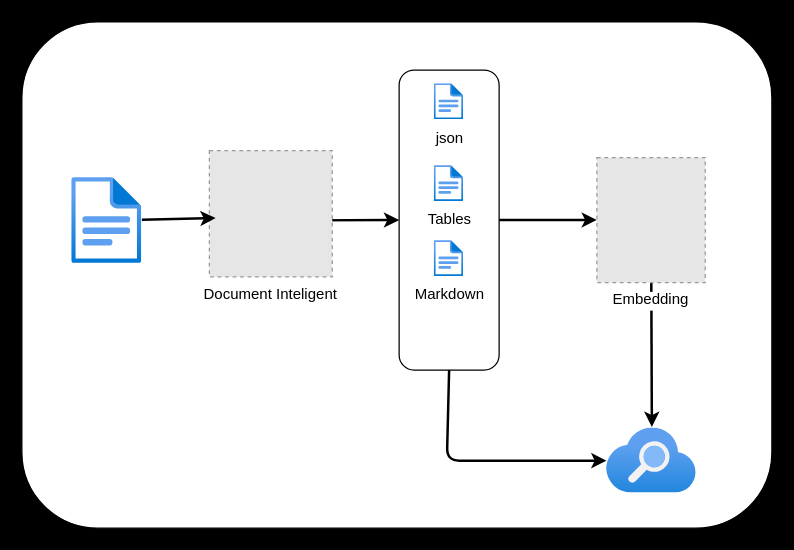
Some shapes in this 794 by 550 pixel diagram are drawn without their labels. Grey dashed boxes stand in for pictures. The centre of each missing label's shape, as x and y in pixels:
Cognetive Search: (651,460)
PDF File: (106,220)
